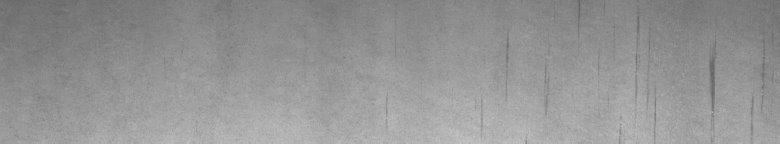ka: (505, 4, 765, 135)
